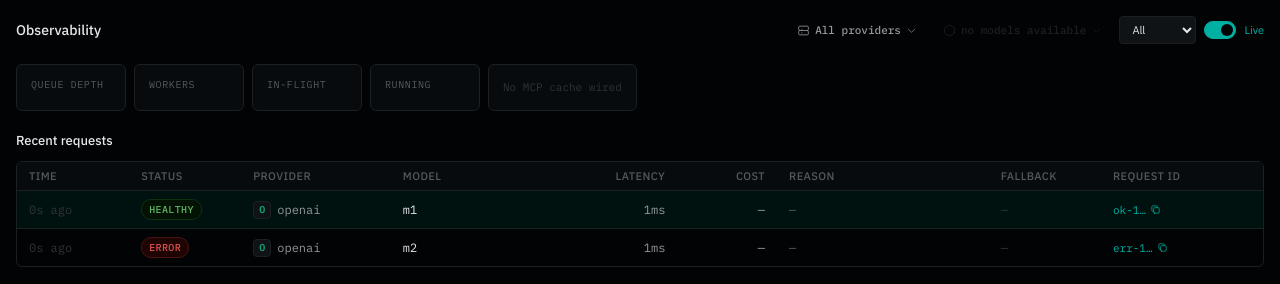
Test: ObservabilityView › status filter narrows the table to error rows only
The width and height of the screenshot is (1280, 284).
expect the element that starts with "Observability" shows "ok-1": met, box [1113,202,1161,218]
Select "Error" in the dropdown named "Status filter" at (1158, 30), box [1119,16,1196,44]
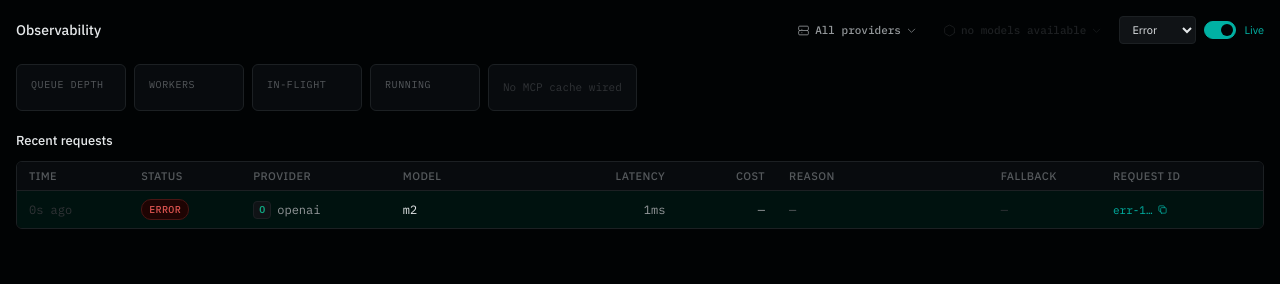
expect the element that starts with "Observability" shows "err-1": met, box [1113,202,1168,218]
expect the button "ok-1…" no longer shows "ok-1": met
